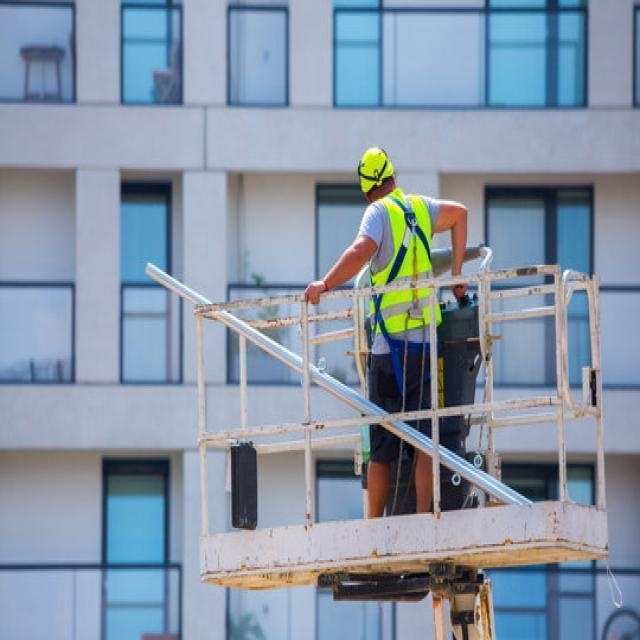Arnes_seguridad: (364, 188, 440, 398)
